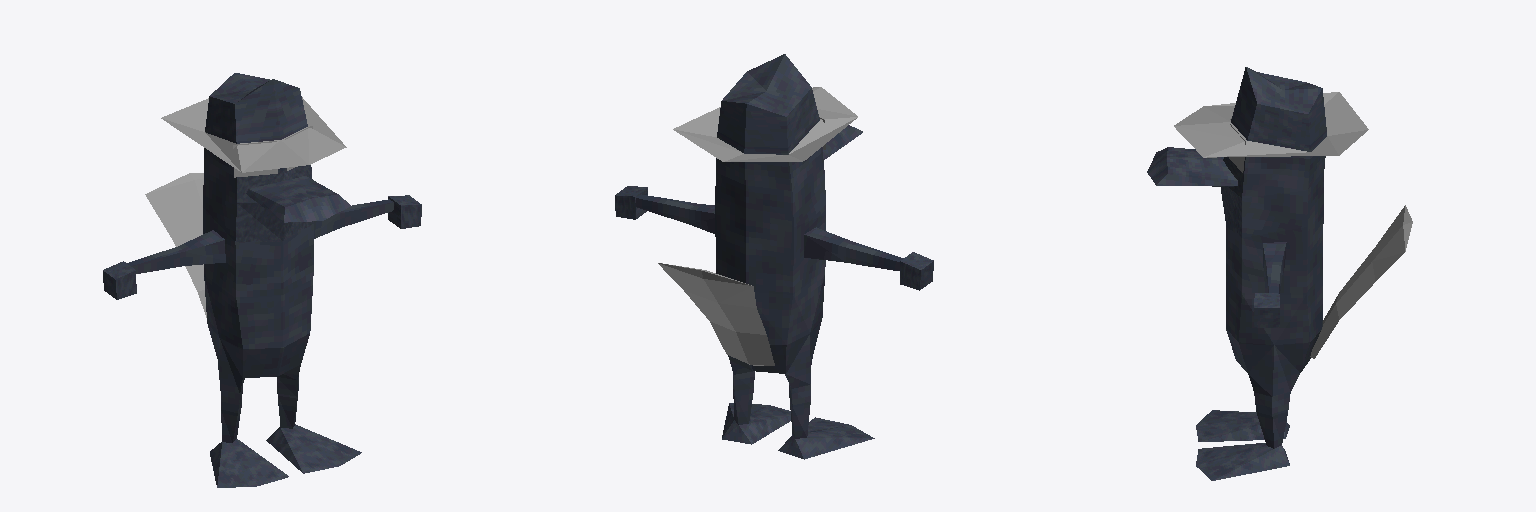
3 renders of one model, left to right at view 1: azimuth 30°, elevation 25°; view 2: azimuth 150°, elevation 25°; view 3: azimuth 270°, elevation 25°, orthographic.
Parts seen in each view (by area): view 1: polygon2, polygon1, polygon3; view 2: polygon2, polygon3, polygon1; view 3: polygon2, polygon1, polygon3.
Part boxes in pixels (x1,y1,x2,y2): polygon2: (103, 73, 421, 487); polygon1: (161, 97, 346, 177); polygon3: (145, 173, 206, 317); polygon2: (615, 54, 933, 459); polygon3: (658, 263, 774, 365); polygon1: (673, 87, 857, 161); polygon2: (1147, 67, 1326, 480); polygon1: (1174, 92, 1368, 172); polygon3: (1310, 205, 1412, 358).
Size of the model in its own units: 0.4023 by 0.4757 by 0.3022.
3 materials, 1 textured.